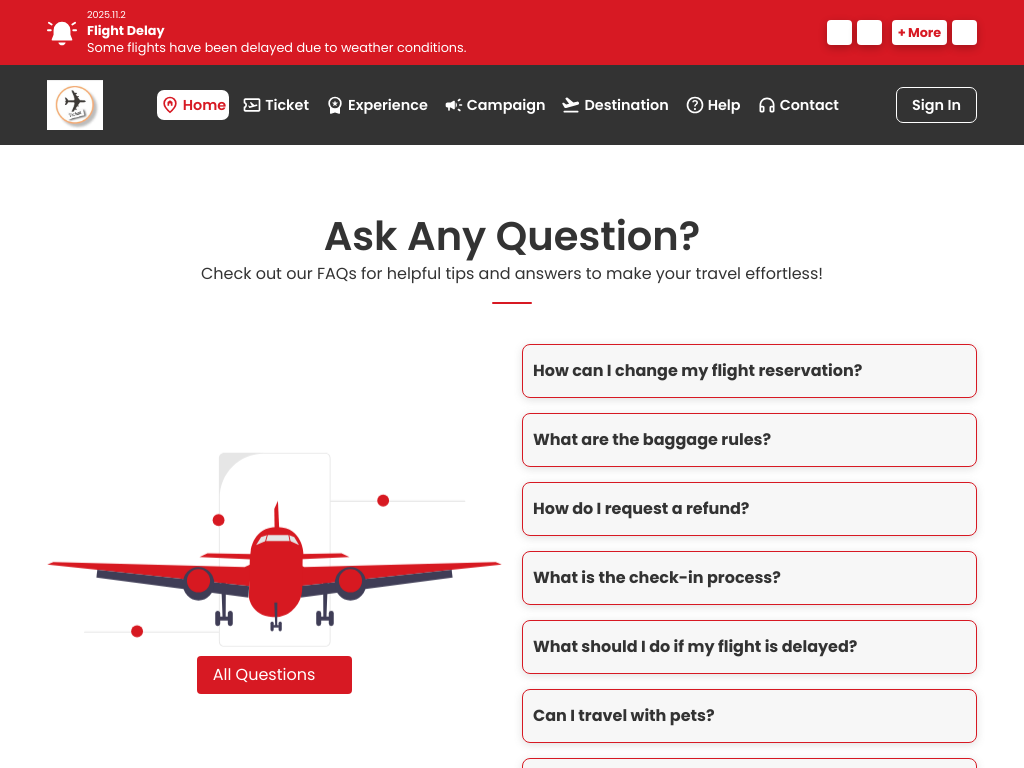
Test: FAQ Component › Expands and collapses FAQ items when clicked
This screenshot has width=1024, height=768.
(page scrolled)
// Click to expand
Click the element with class "accordion-header" that starts with "How can I change my flight reservation?". click: click(750, 371)
box: left=533, top=355, right=966, bottom=387
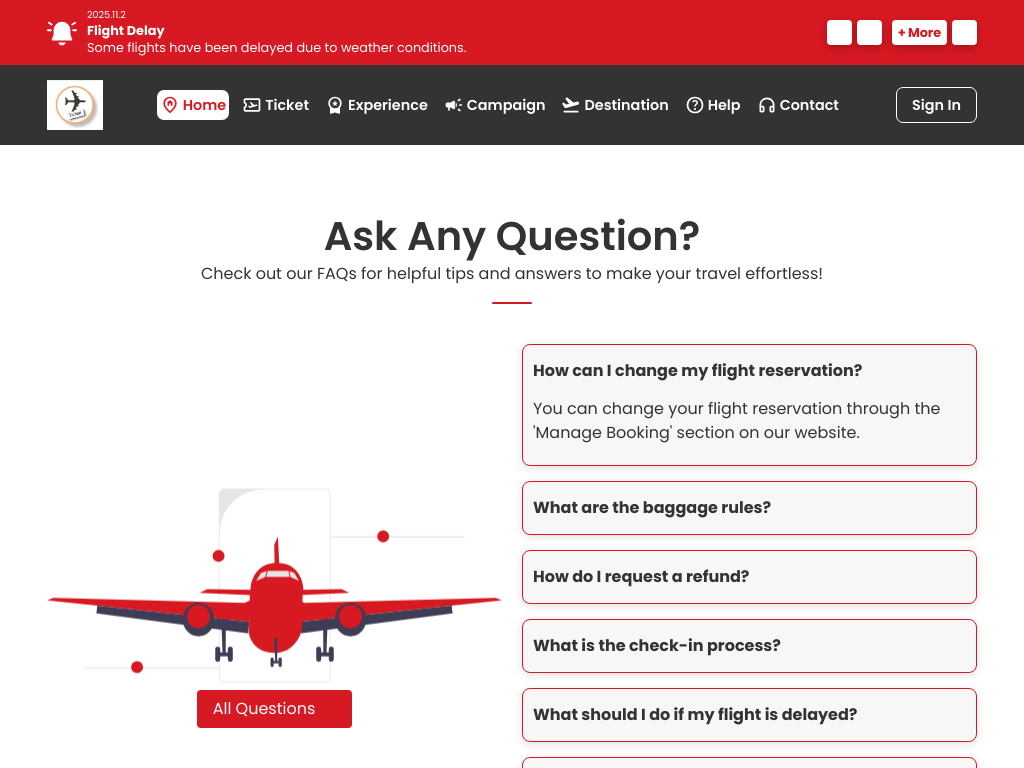
Expected: the element with class "accordion-content" is shown, left=533, top=387, right=966, bottom=455
// Click to collapse
Click the element with class "accordion-header" that starts with "How can I change my flight reservation?". click: click(750, 371)
box: left=533, top=355, right=966, bottom=387
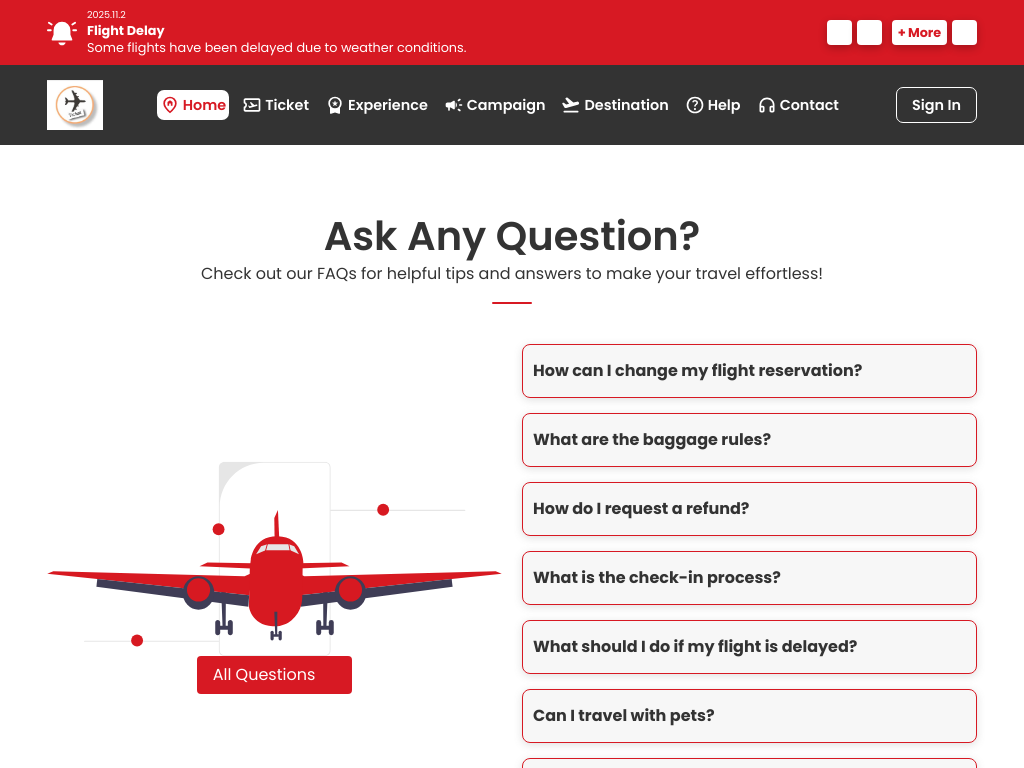
Now the element with class "accordion-content" is gone
